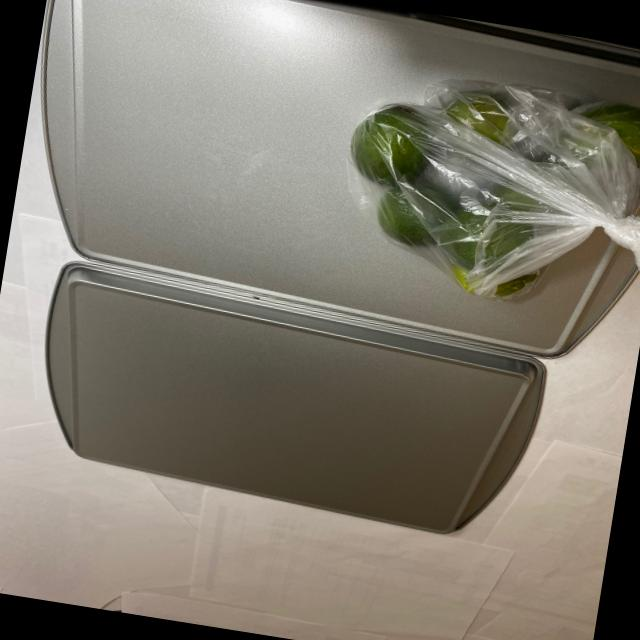lemon: (331, 53, 640, 324)
